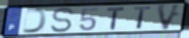5: (79, 7, 101, 31)
D: (20, 8, 49, 34)
S: (50, 6, 76, 33)
T: (106, 7, 127, 31), (133, 6, 153, 30)
V: (156, 3, 184, 32)
